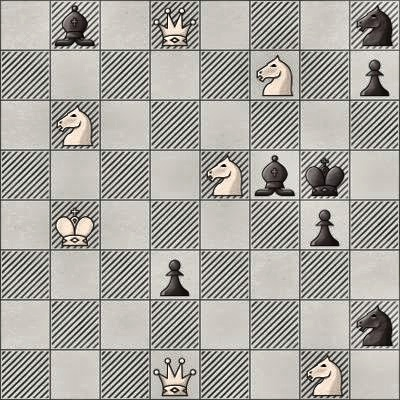black-bishop: (50, 0, 100, 50), (250, 150, 300, 200)
black-king: (300, 150, 350, 200)
black-knight: (350, 0, 400, 50), (350, 300, 400, 350)
black-pawn: (350, 50, 400, 100), (300, 200, 350, 250), (150, 250, 200, 300)
white-king: (50, 200, 100, 250)
white-knight: (250, 50, 300, 100), (50, 100, 100, 150), (200, 150, 250, 200), (300, 350, 350, 400)
white-queen: (150, 0, 200, 50), (150, 350, 200, 400)
